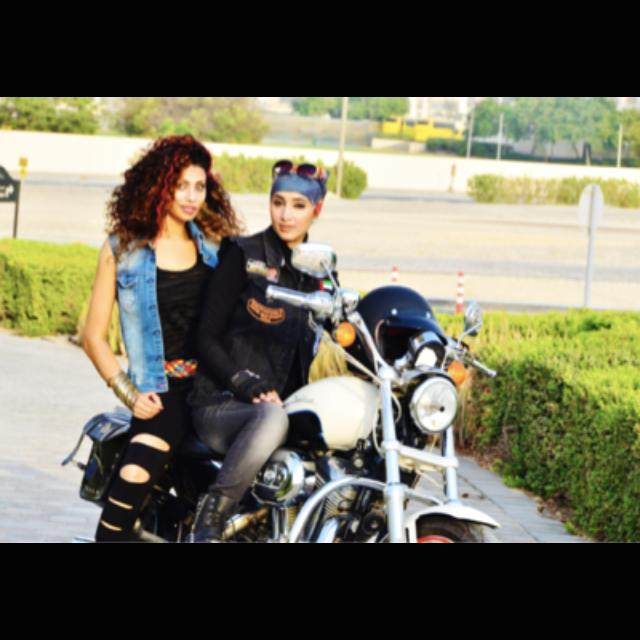Without Helmet: (130, 120, 218, 238), (261, 147, 333, 251)
